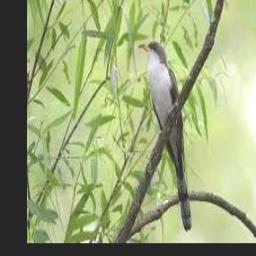Cuckoo: (139, 41, 192, 229)
